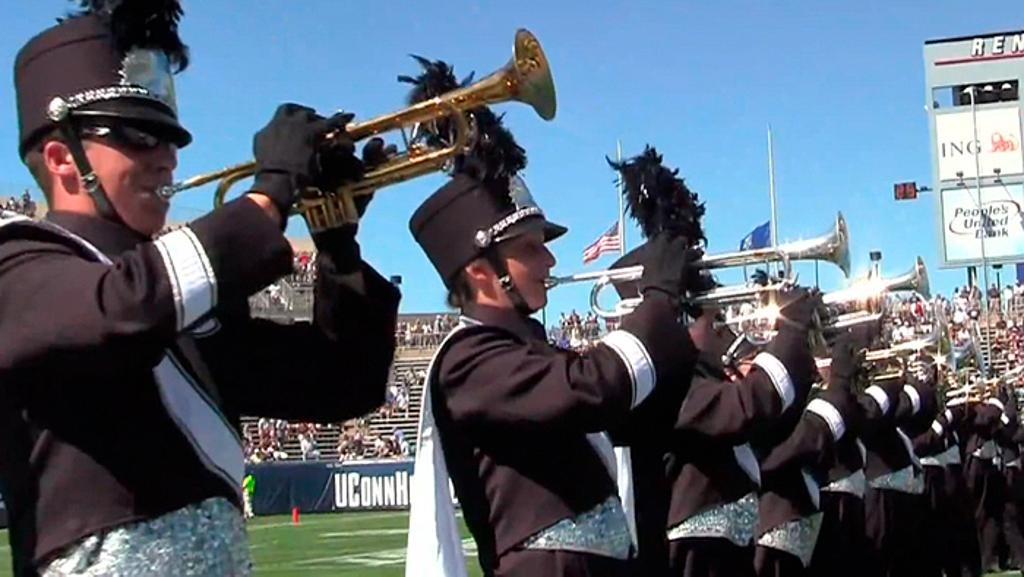human_face: (84, 80, 176, 220), (492, 212, 556, 308)
